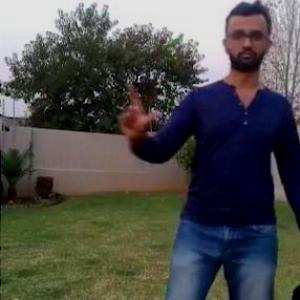land_hand: (109, 76, 162, 144)
